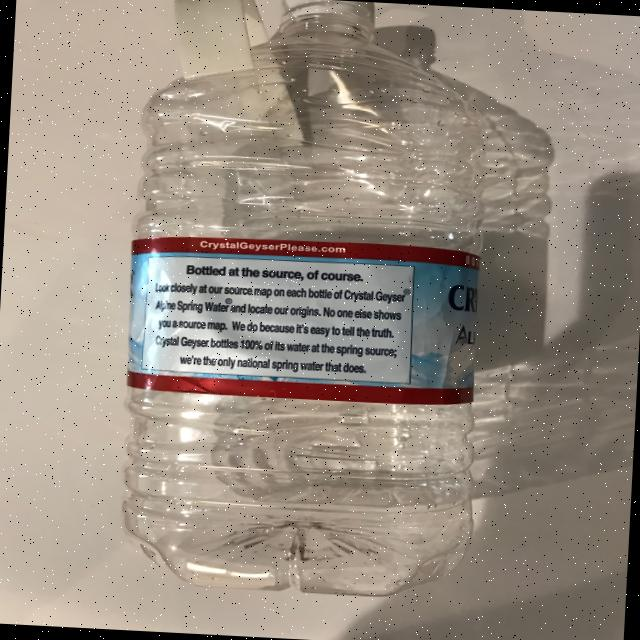plastic: (112, 0, 500, 603)
